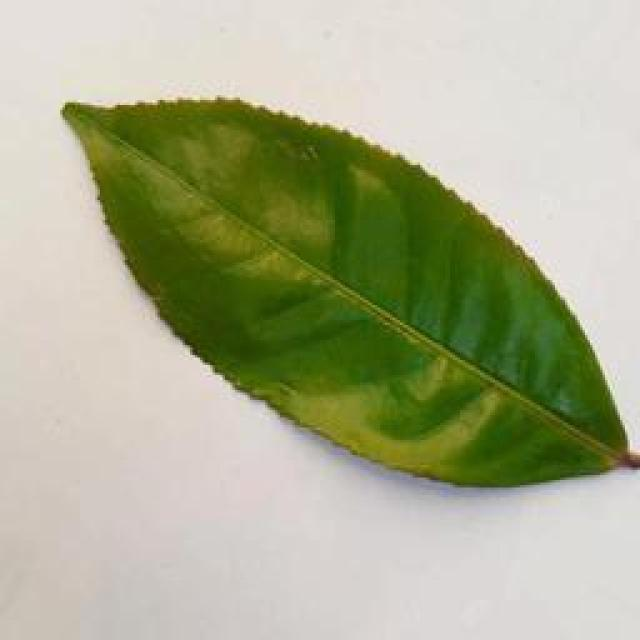Healthy: (51, 85, 639, 496)
